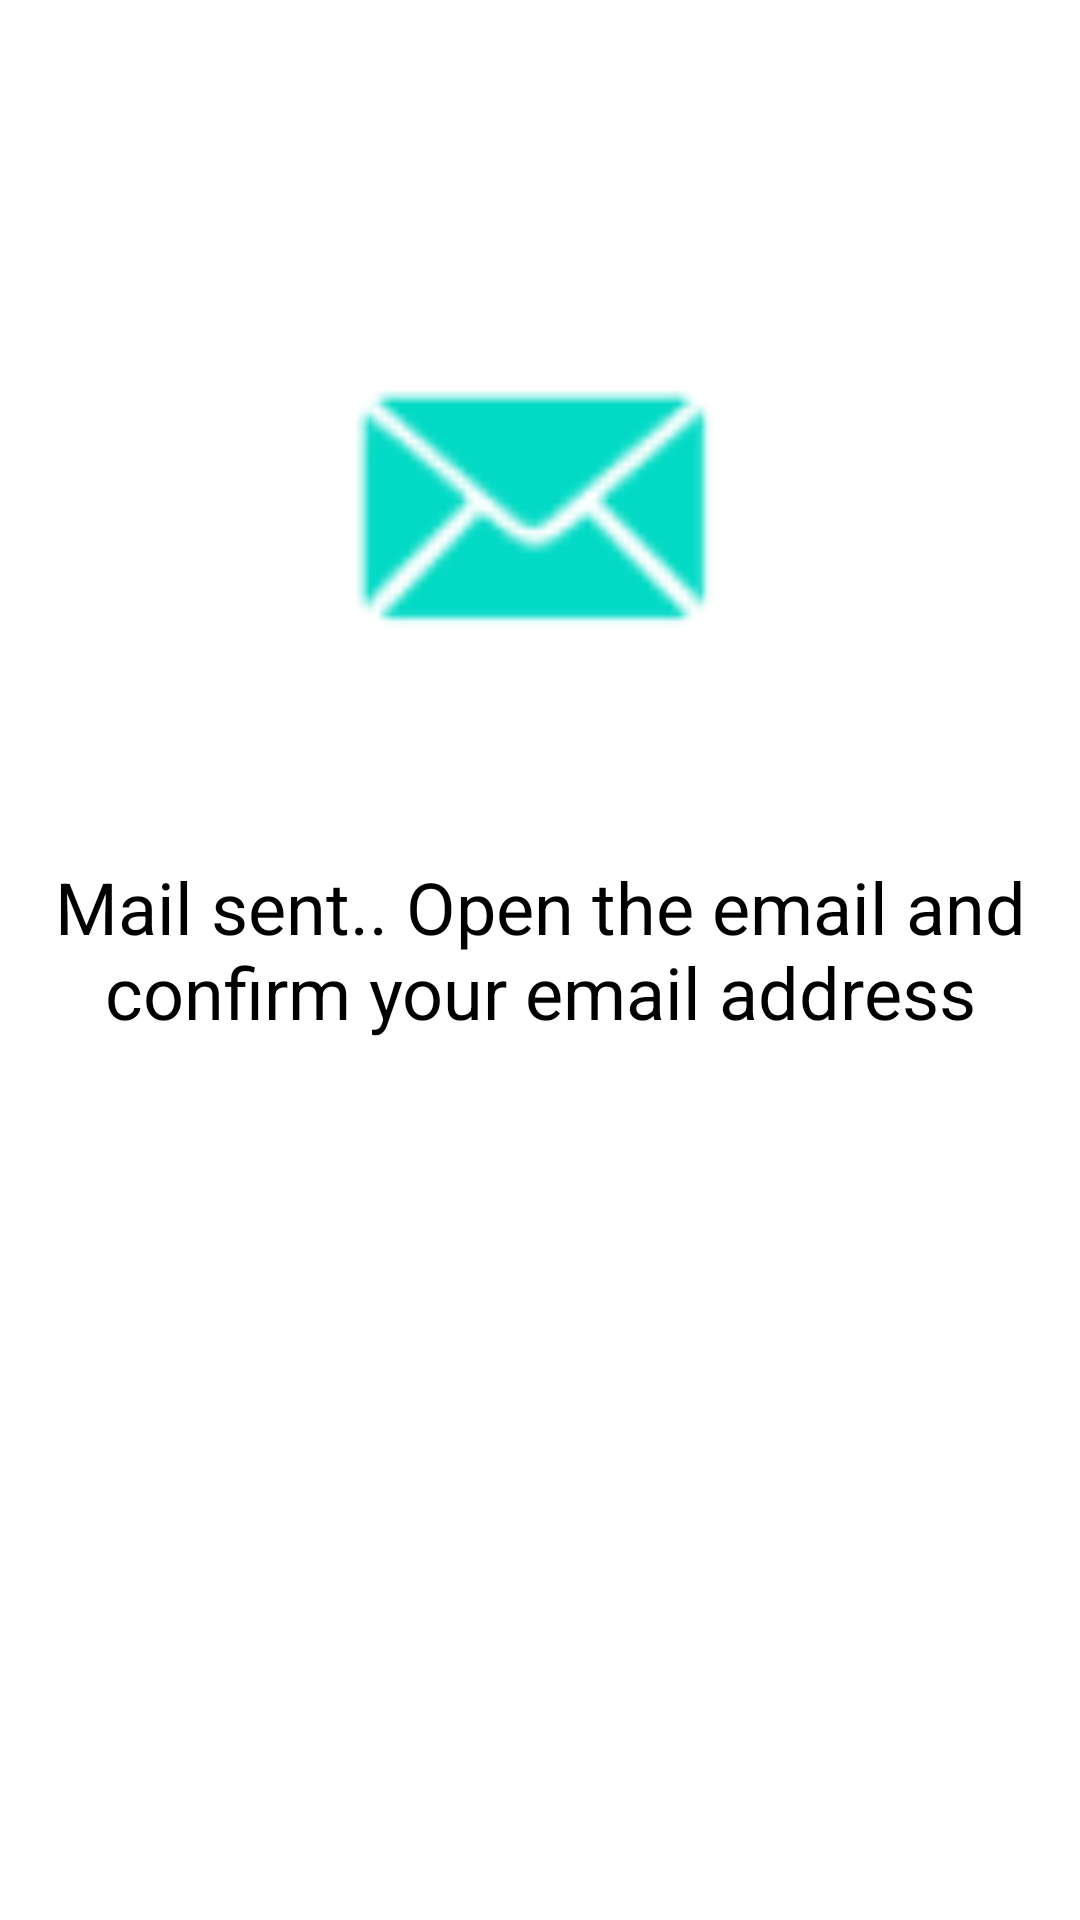

Screen size 1080px x 1920px. Icon name, then its center in pixels as [x,y]:
sym action email: [532,506]
